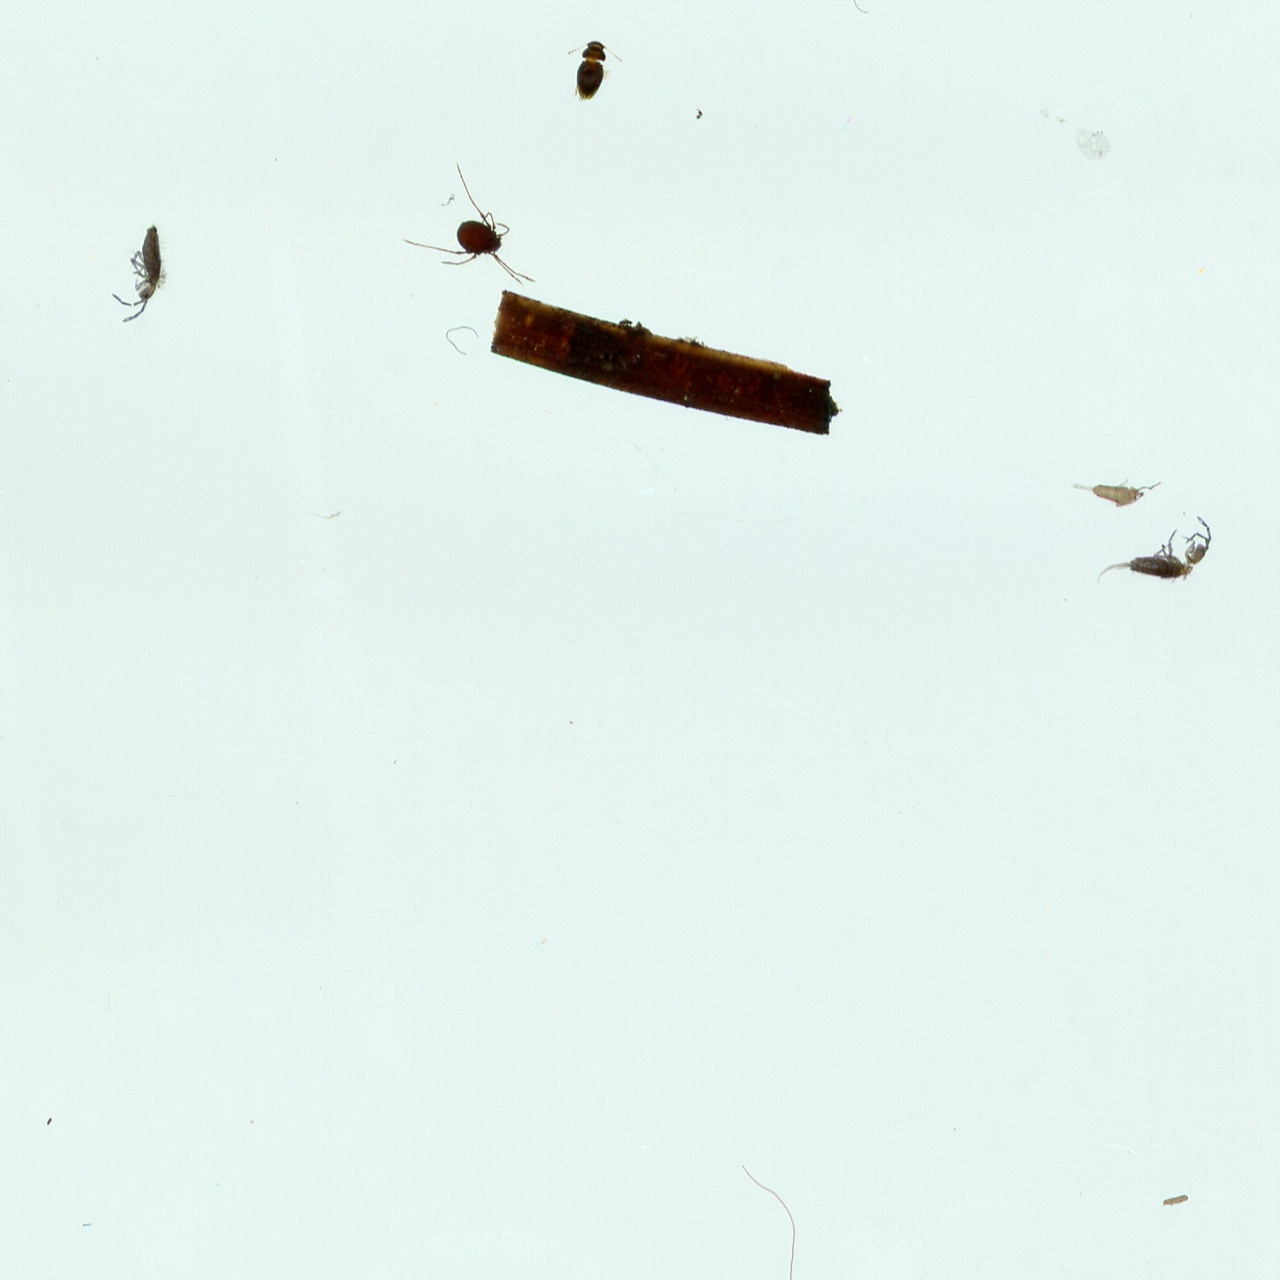arthropod: (393, 152, 544, 291), (1089, 509, 1218, 600), (108, 218, 175, 334), (559, 29, 629, 108), (1069, 477, 1163, 509)
